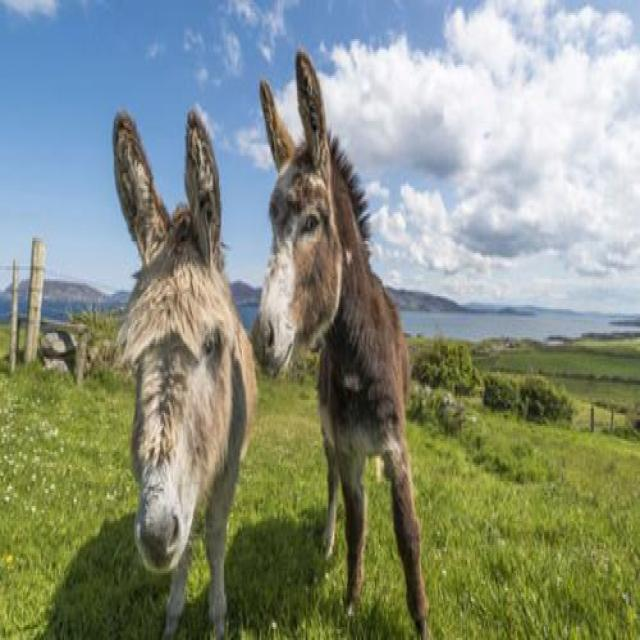Donkey: (252, 47, 432, 640), (111, 105, 258, 640)
